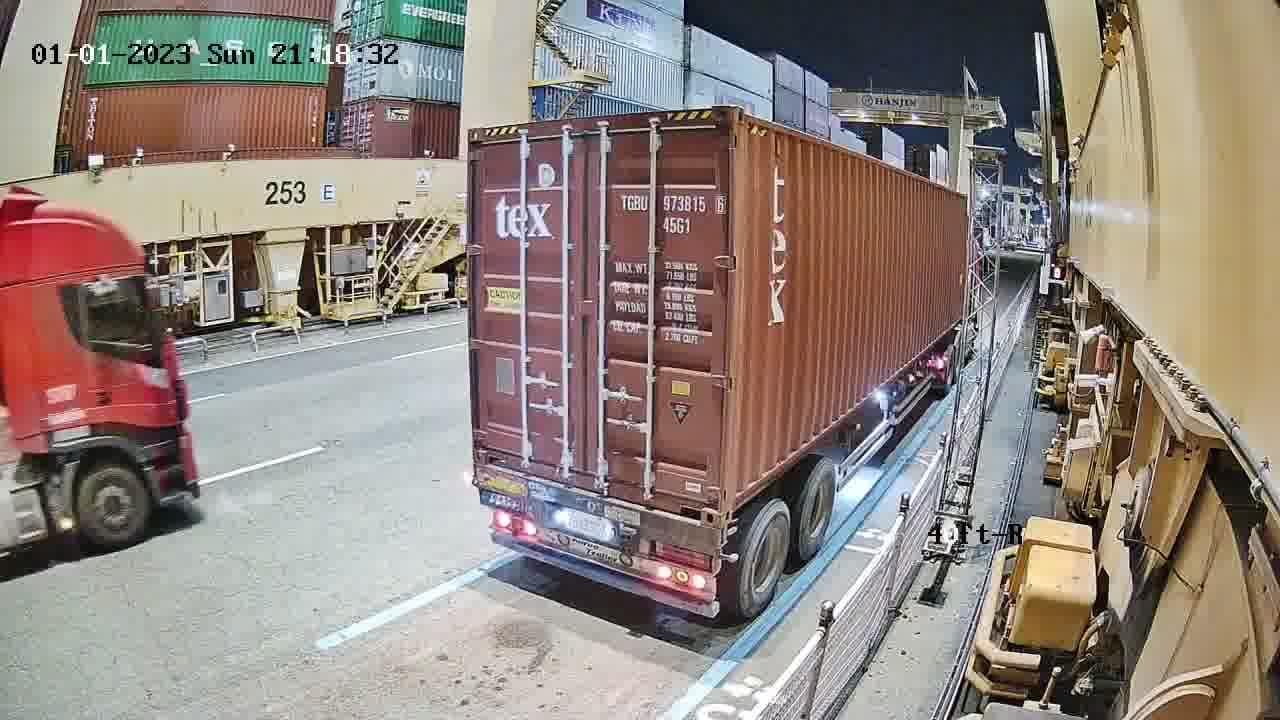Chassis: (473, 467, 721, 549)
Cone: (719, 520, 733, 545)
Hole_L: (720, 467, 747, 528), (471, 432, 501, 471)
Hole_R: (683, 480, 722, 530)
Tire: (741, 505, 792, 614), (798, 456, 836, 560)
